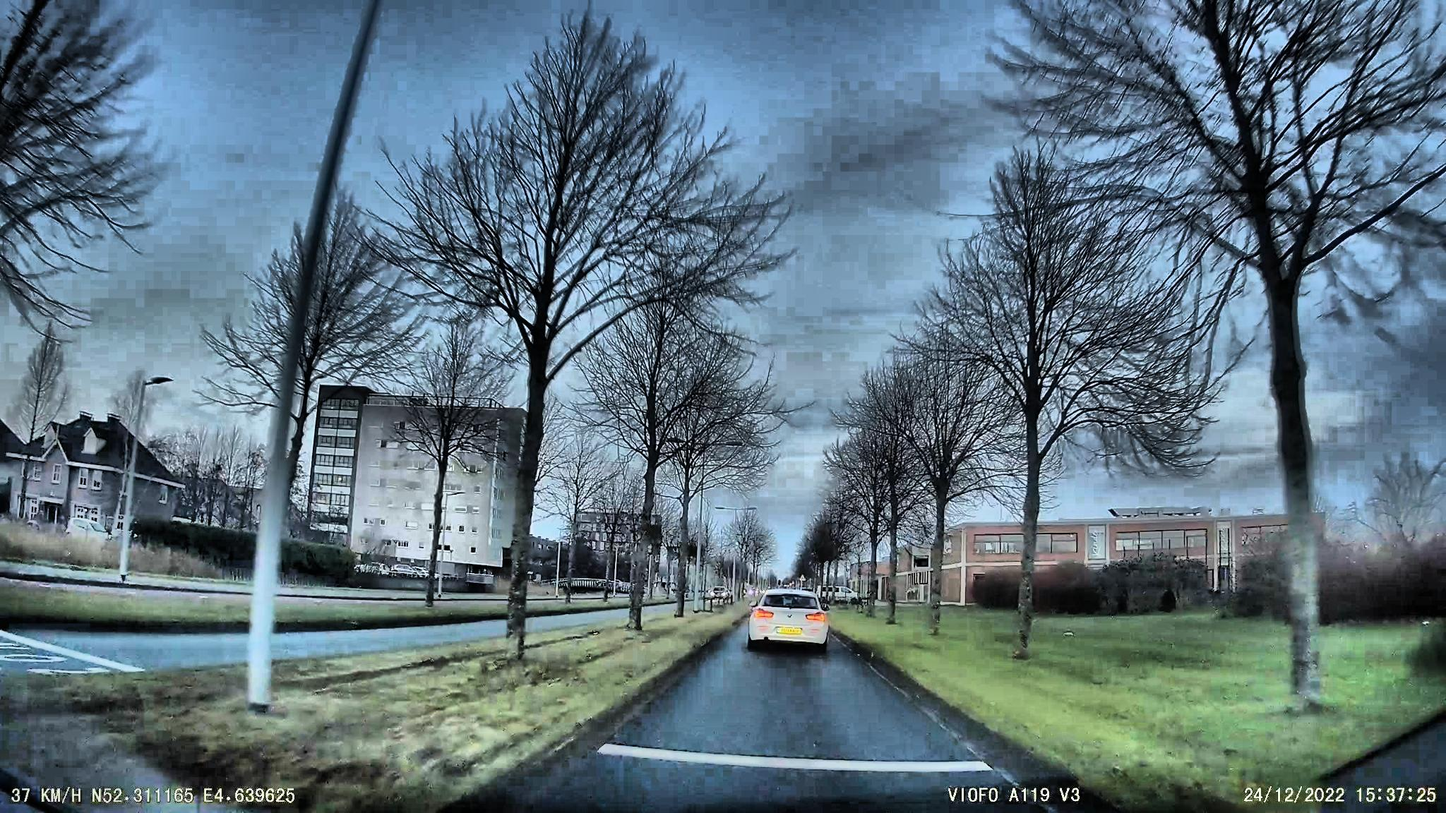Roads: (497, 622, 1117, 813)
